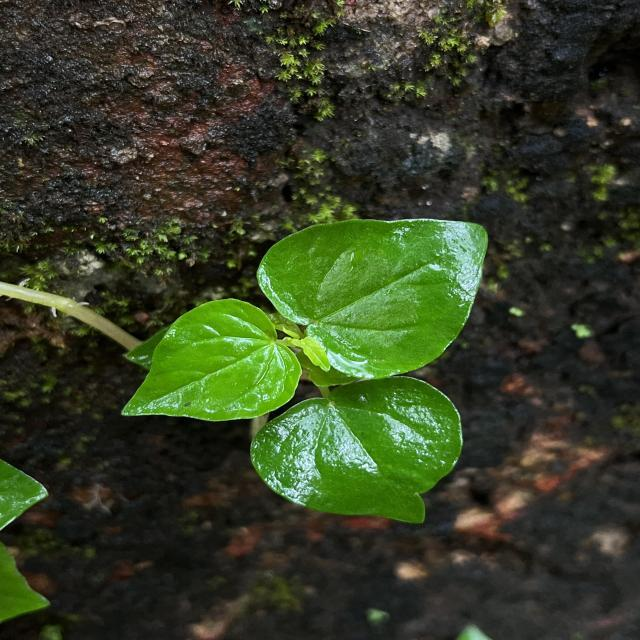Peperomia pellucida: (254, 215, 492, 382), (245, 372, 468, 526), (115, 295, 306, 426)
